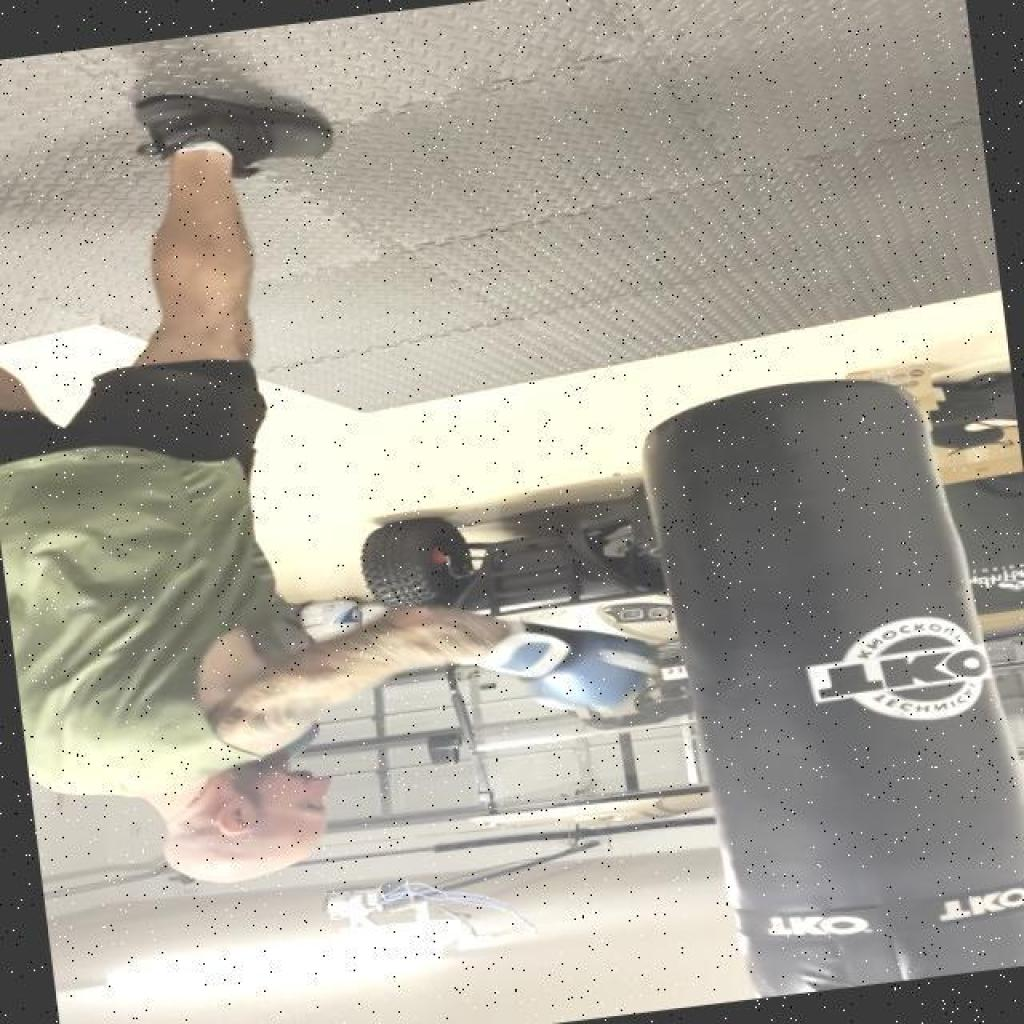bag: (672, 360, 1011, 998)
jab: (8, 518, 750, 949)
